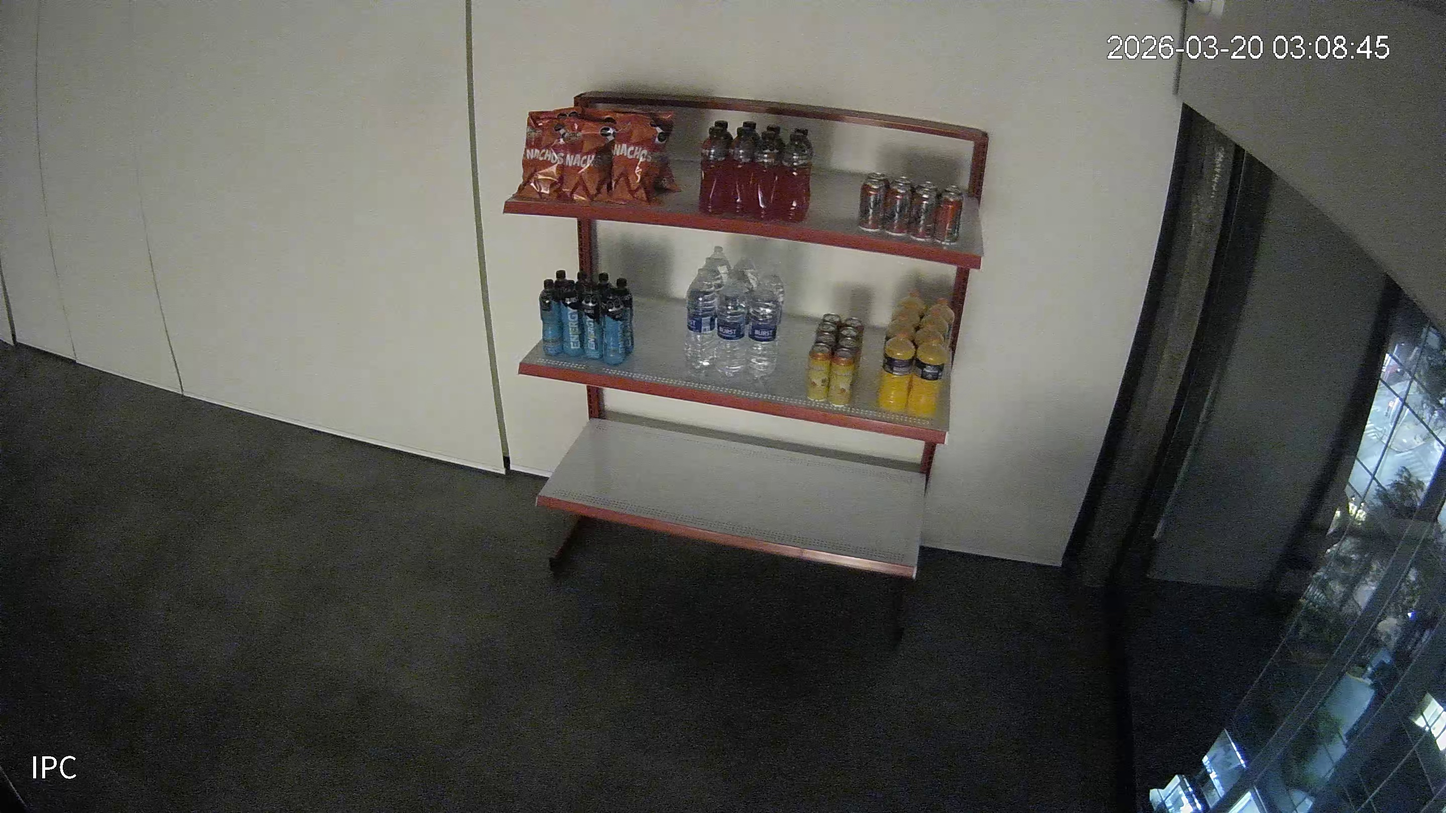agua_burst: (716, 269, 749, 374), (685, 269, 718, 366), (748, 279, 781, 376)
burst_energetica_roja: (777, 133, 810, 221), (749, 130, 781, 220), (699, 127, 729, 213)
burst_energy: (601, 290, 626, 364), (616, 278, 633, 354), (596, 271, 613, 302)
nachos_naturasol: (610, 113, 668, 205), (620, 110, 675, 133), (579, 107, 618, 123)
nebraska_mango: (806, 345, 832, 400), (830, 349, 854, 404), (840, 328, 859, 336)
sisi_cola: (910, 188, 939, 240), (857, 180, 887, 230), (885, 184, 913, 234)
sun_paradise_naranja: (908, 334, 947, 414), (877, 330, 915, 412), (919, 308, 949, 342)
